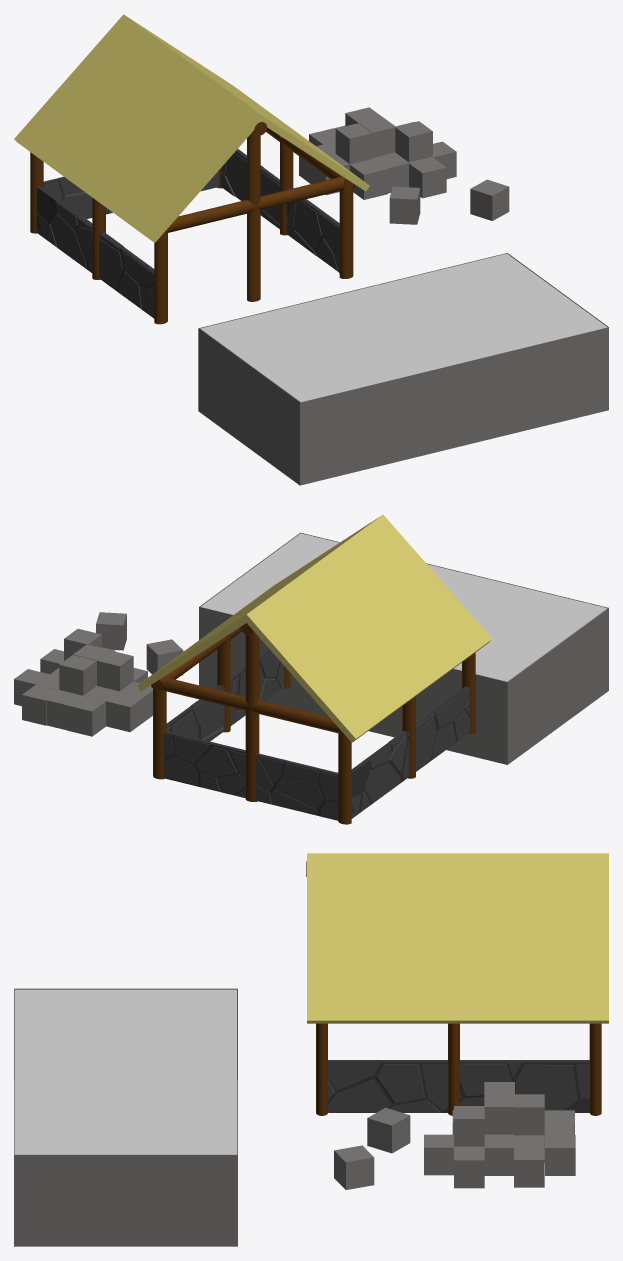
The model's file is ClayPit.fbx.
3 views of the same model, one above another, from view 1: azimuth 30°, elevation 25°; view 2: azimuth 150°, elevation 25°; view 3: azimuth 270°, elevation 25° (orthographic). The views are drawn at different scales.
Visible parts, largest first — view 1: Hole, Roof, Mask, Clay, Struts, Wall Chunks, Walls; view 2: Roof, Hole, Wall Chunks, Mask, Clay, Struts, Walls; view 3: Roof, Mask, Hole, Clay, Wall Chunks, Struts, Walls.
Part boxes in pixels (x1,y1,x2,y2): Hole: (198,253,608,485); Roof: (14,14,369,242); Mask: (200,253,607,402); Clay: (299,107,509,224); Struts: (30,122,355,324); Wall Chunks: (36,152,339,317); Walls: (36,149,339,316); Roof: (137,514,492,742); Hole: (199,532,608,764); Wall Chunks: (163,651,469,819); Mask: (200,533,607,681); Clay: (14,612,183,736); Struts: (151,623,475,824); Walls: (164,649,468,820); Roof: (307,853,608,1023); Mask: (14,989,236,1154); Hole: (14,988,237,1246); Clay: (334,1082,575,1189); Wall Chunks: (327,1062,589,1112); Struts: (306,861,601,1115); Walls: (327,1060,589,1112).
Size of the model in its own units: 243 by 155 by 302.
